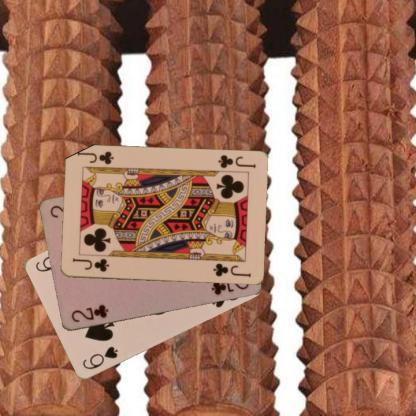2c: (68, 302, 110, 324)
6s: (80, 344, 119, 371)
Jc: (69, 256, 110, 274), (215, 152, 256, 170)
